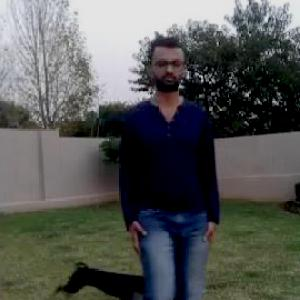follow: (119, 35, 220, 299)
